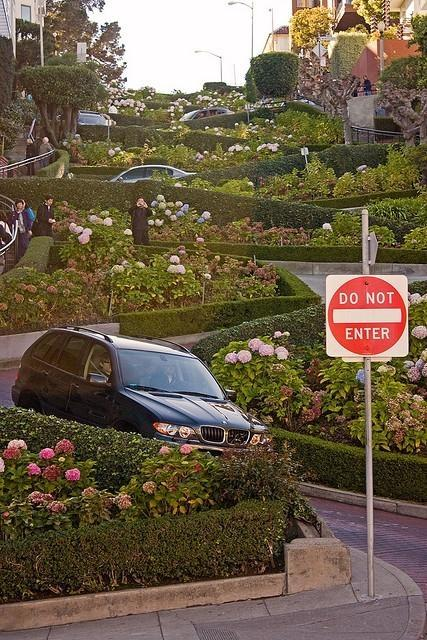car: (12, 324, 256, 442), (108, 165, 196, 183), (180, 109, 234, 121), (77, 110, 106, 124), (103, 114, 117, 126), (298, 98, 312, 102)
